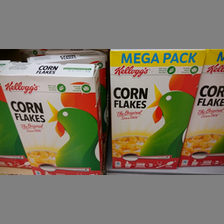cereal: (109, 49, 205, 170), (1, 62, 106, 169)
